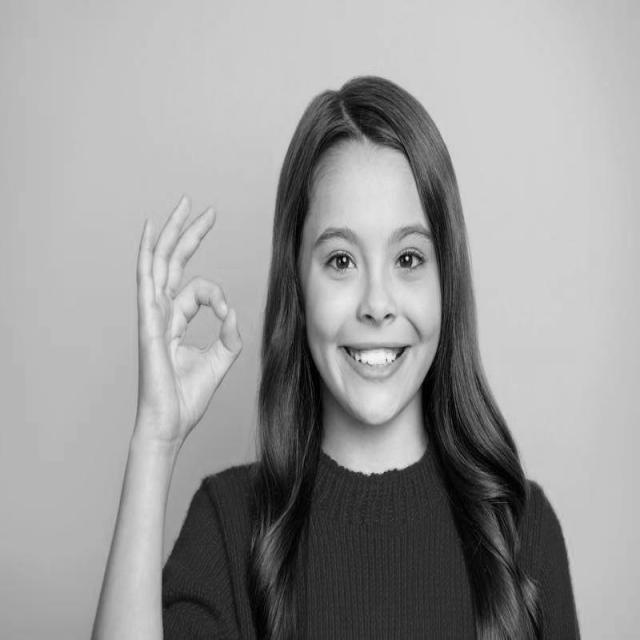perfect: (126, 189, 248, 463)
